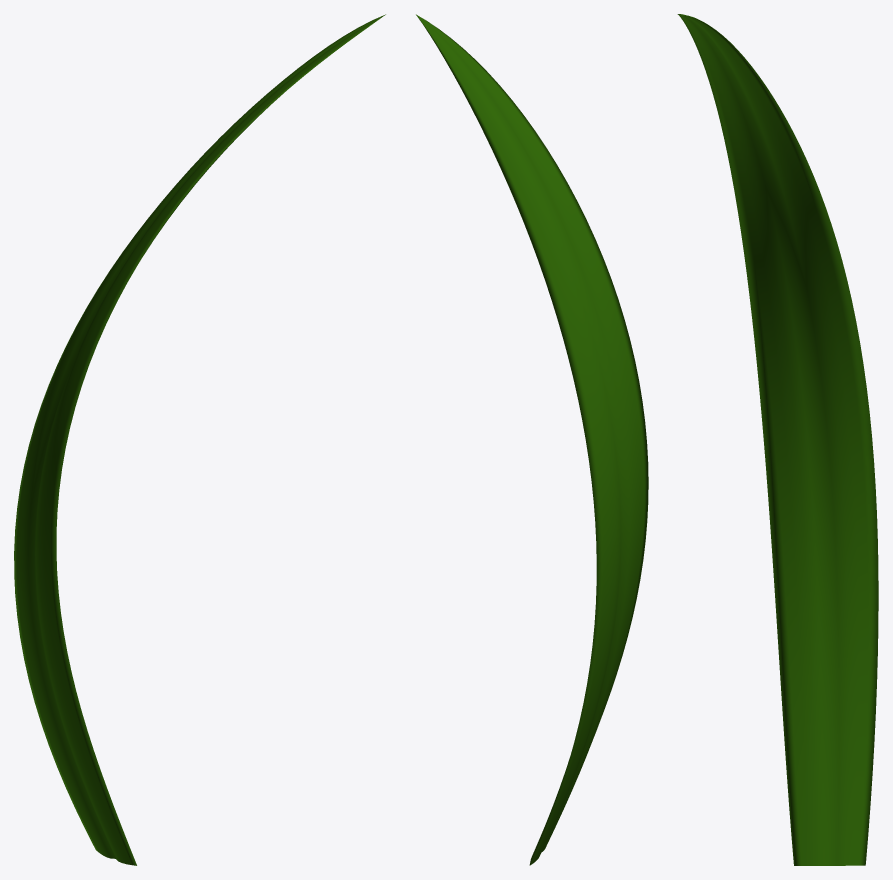
3 views of the same model, side by side, from view 1: azimuth 30°, elevation 25°; view 2: azimuth 150°, elevation 25°; view 3: azimuth 270°, elevation 25° (orthographic). The views are drawn at different scales.
Visible parts, largest first — view 1: ТраекторияNurbs.009; view 2: ТраекторияNurbs.009; view 3: ТраекторияNurbs.009.
Boxes of the visible parts, x1,y1,x2,y2 form: ТраекторияNurbs.009: (14, 14, 385, 865); ТраекторияNurbs.009: (416, 14, 648, 865); ТраекторияNurbs.009: (677, 14, 878, 865).
Size of the model in its own units: 119 by 323 by 60.9.
